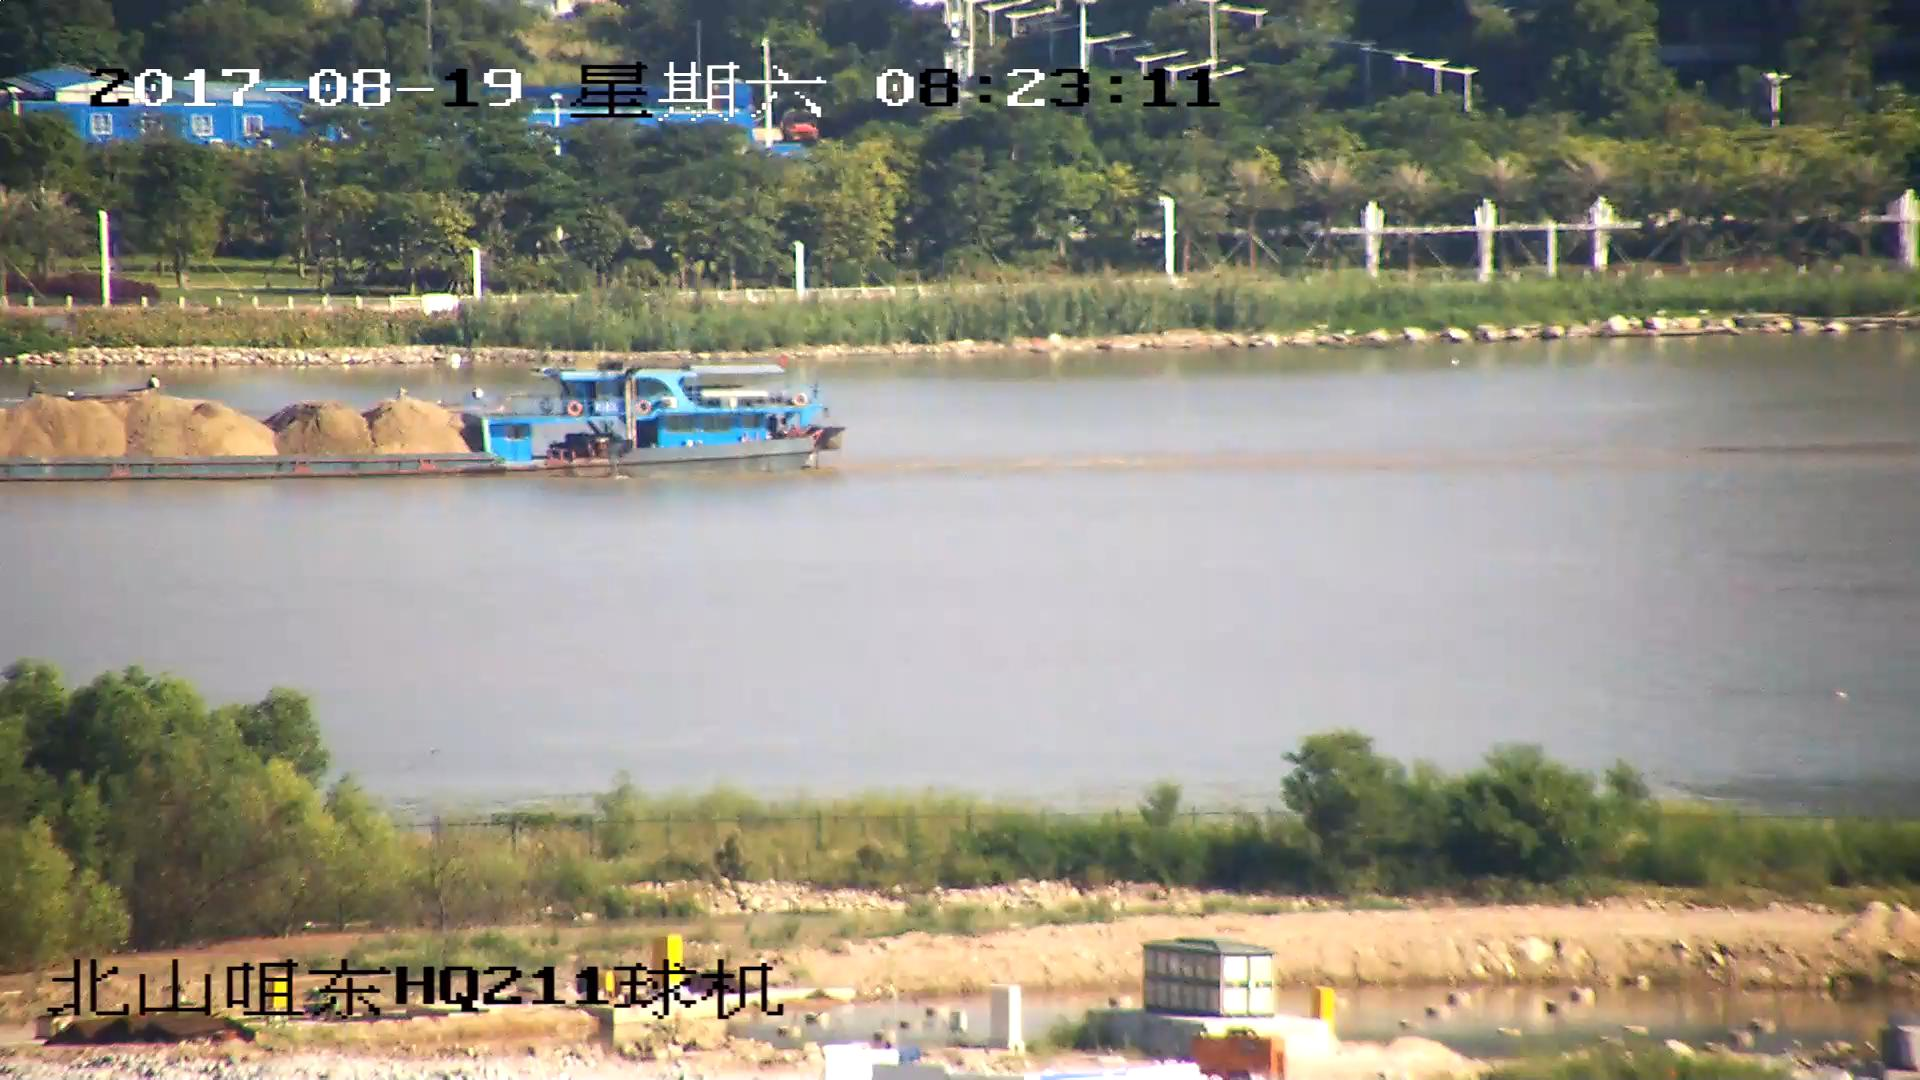ore carrier: (1, 352, 842, 482)
